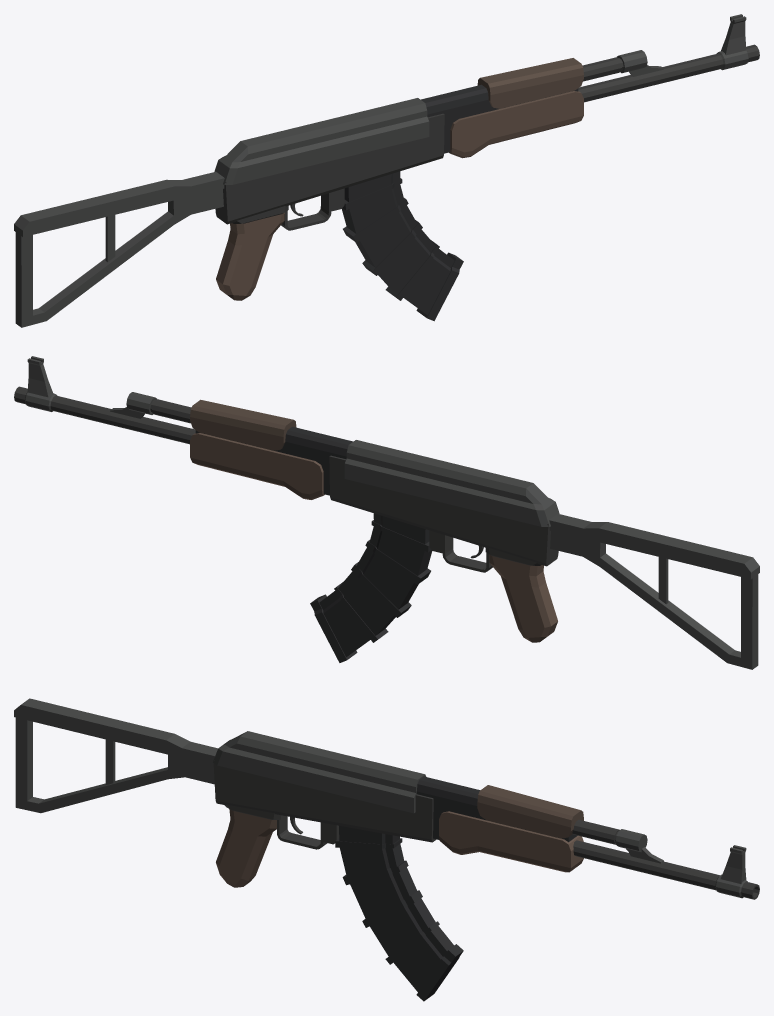
Rendered from assaultrifle_4.glb.
The picture shows the model from 3 angles, top to bottom: view 1: azimuth 30°, elevation 25°; view 2: azimuth 150°, elevation 25°; view 3: azimuth 330°, elevation 25°; orthographic projection.
Parts seen in each view (by area): view 1: AssaultRifle_4; view 2: AssaultRifle_4; view 3: AssaultRifle_4.
Boxes of the visible parts, left/top/right/bottom form: AssaultRifle_4: left=14, top=14, right=759, bottom=327; AssaultRifle_4: left=14, top=356, right=759, bottom=669; AssaultRifle_4: left=14, top=698, right=759, bottom=1001.
Bounding box in the file's own units: 5.49 × 1.6 × 0.196.
